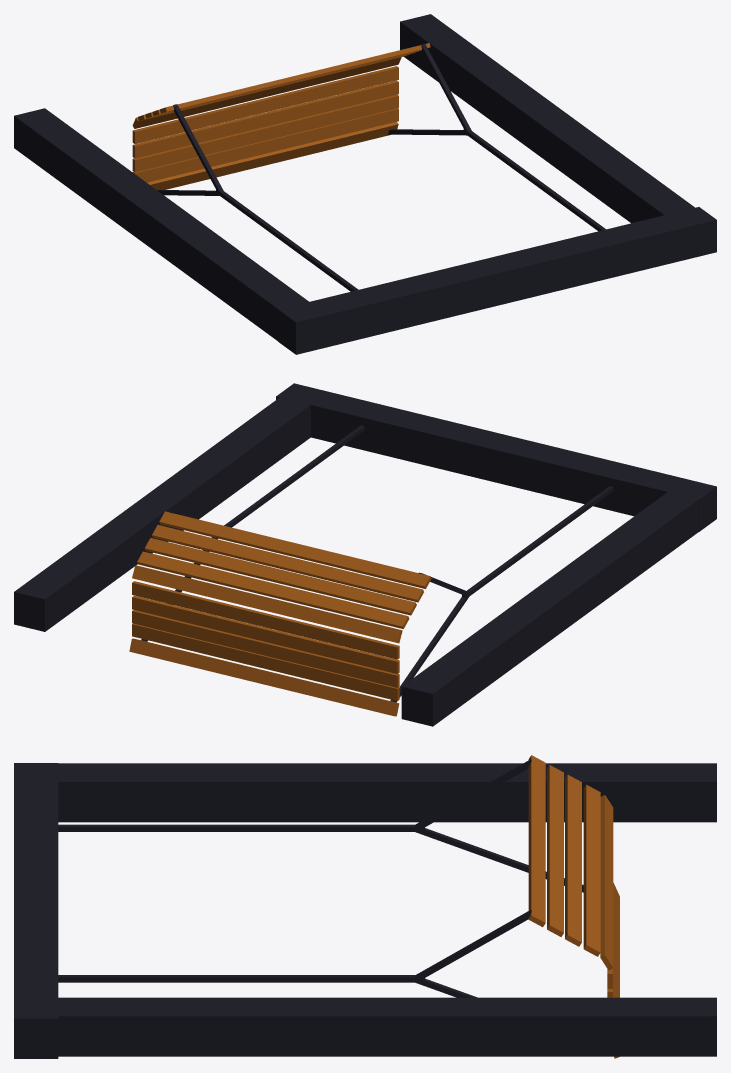
The model's file is adanat-14014.glb.
The picture shows the model from 3 angles, top to bottom: view 1: azimuth 30°, elevation 25°; view 2: azimuth 150°, elevation 25°; view 3: azimuth 270°, elevation 25°; orthographic projection. The views are drawn at different scales.
Visible parts, largest first — view 1: Cube.068, Cube.066, Cube.067, Cube.071, Cube.072, Cube.070, Cube.069, Cube.073, Cube.074, Cube.078, Cube.081, Cube.084 (+2 smaller); view 2: Cube.068, Cube.066, Cube.067, Cube.072, Cube.071, Cube.073, Cube.076, Cube.075, Cube.077, Cube.078, Cube.074, Cube.070 (+4 smaller); view 3: Cube.067, Cube.066, Cube.068, Cube.075, Cube.078, Cube.084, Cube.081, Cube.076, Cube.077, Cube.074, Cube.082, Cube.079 (+2 smaller).
Boxes of the visible parts, box(x1,y1,x2,y2) form: Cube.068: box(278, 207, 716, 354); Cube.066: box(14, 108, 321, 341); Cube.067: box(400, 14, 705, 225); Cube.071: box(132, 80, 398, 158); Cube.072: box(132, 66, 398, 143); Cube.070: box(132, 94, 398, 172); Cube.069: box(132, 108, 398, 182); Cube.073: box(147, 121, 398, 189); Cube.074: box(132, 57, 401, 128); Cube.078: box(160, 43, 430, 113); Cube.081: box(463, 129, 605, 231); Cube.084: box(216, 189, 358, 291); Cube.068: box(276, 383, 716, 531); Cube.066: box(401, 481, 712, 726); Cube.067: box(14, 386, 324, 631); Cube.072: box(132, 581, 399, 659); Cube.071: box(132, 595, 399, 673); Cube.073: box(129, 638, 399, 716); Cube.076: box(144, 538, 416, 615); Cube.075: box(137, 551, 409, 628); Cube.077: box(152, 525, 423, 602); Cube.078: box(159, 511, 431, 588); Cube.074: box(132, 565, 402, 643); Cube.070: box(132, 610, 399, 687); Cube.067: box(22, 997, 716, 1056); Cube.066: box(22, 763, 716, 822); Cube.068: box(14, 763, 58, 1058); Cube.075: box(583, 784, 600, 956); Cube.078: box(528, 755, 545, 927); Cube.084: box(58, 824, 424, 831); Cube.081: box(58, 975, 424, 982); Cube.076: box(565, 774, 581, 946); Cube.077: box(547, 765, 563, 936); Cube.074: box(600, 795, 613, 970); Cube.082: box(413, 759, 531, 832); Cube.079: box(413, 910, 531, 982).
Size of the model in its own units: 2.18 by 0.5722 by 2.53.
